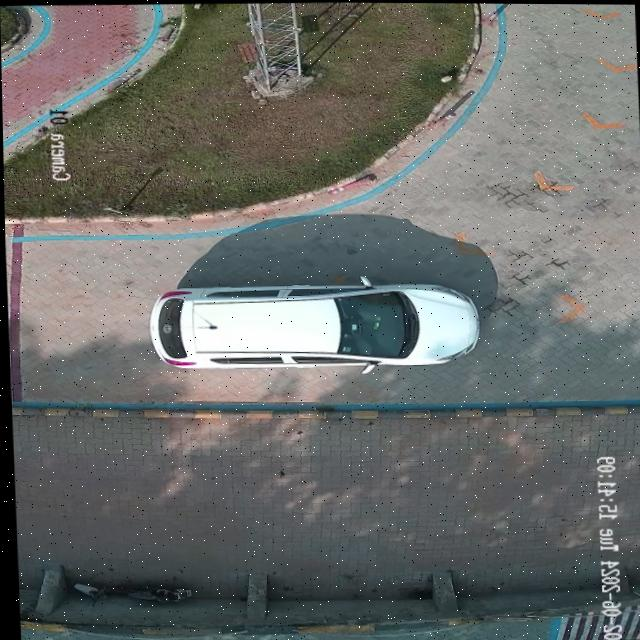car: (148, 276, 477, 371)
